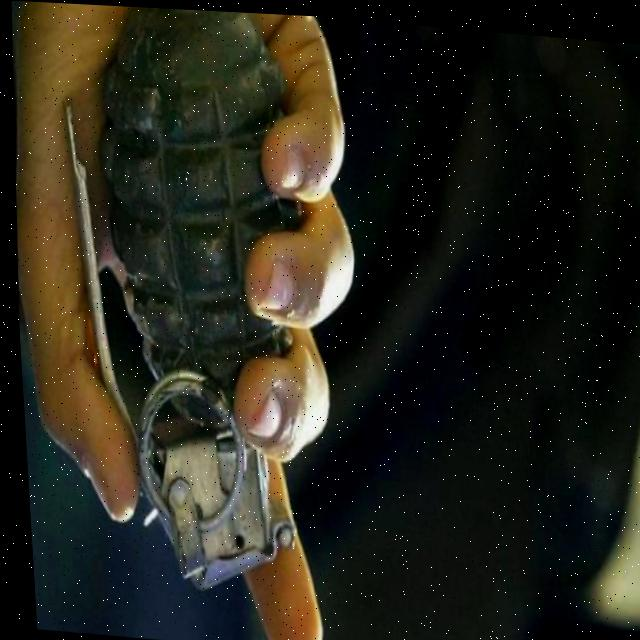grenade: (36, 1, 328, 612)
